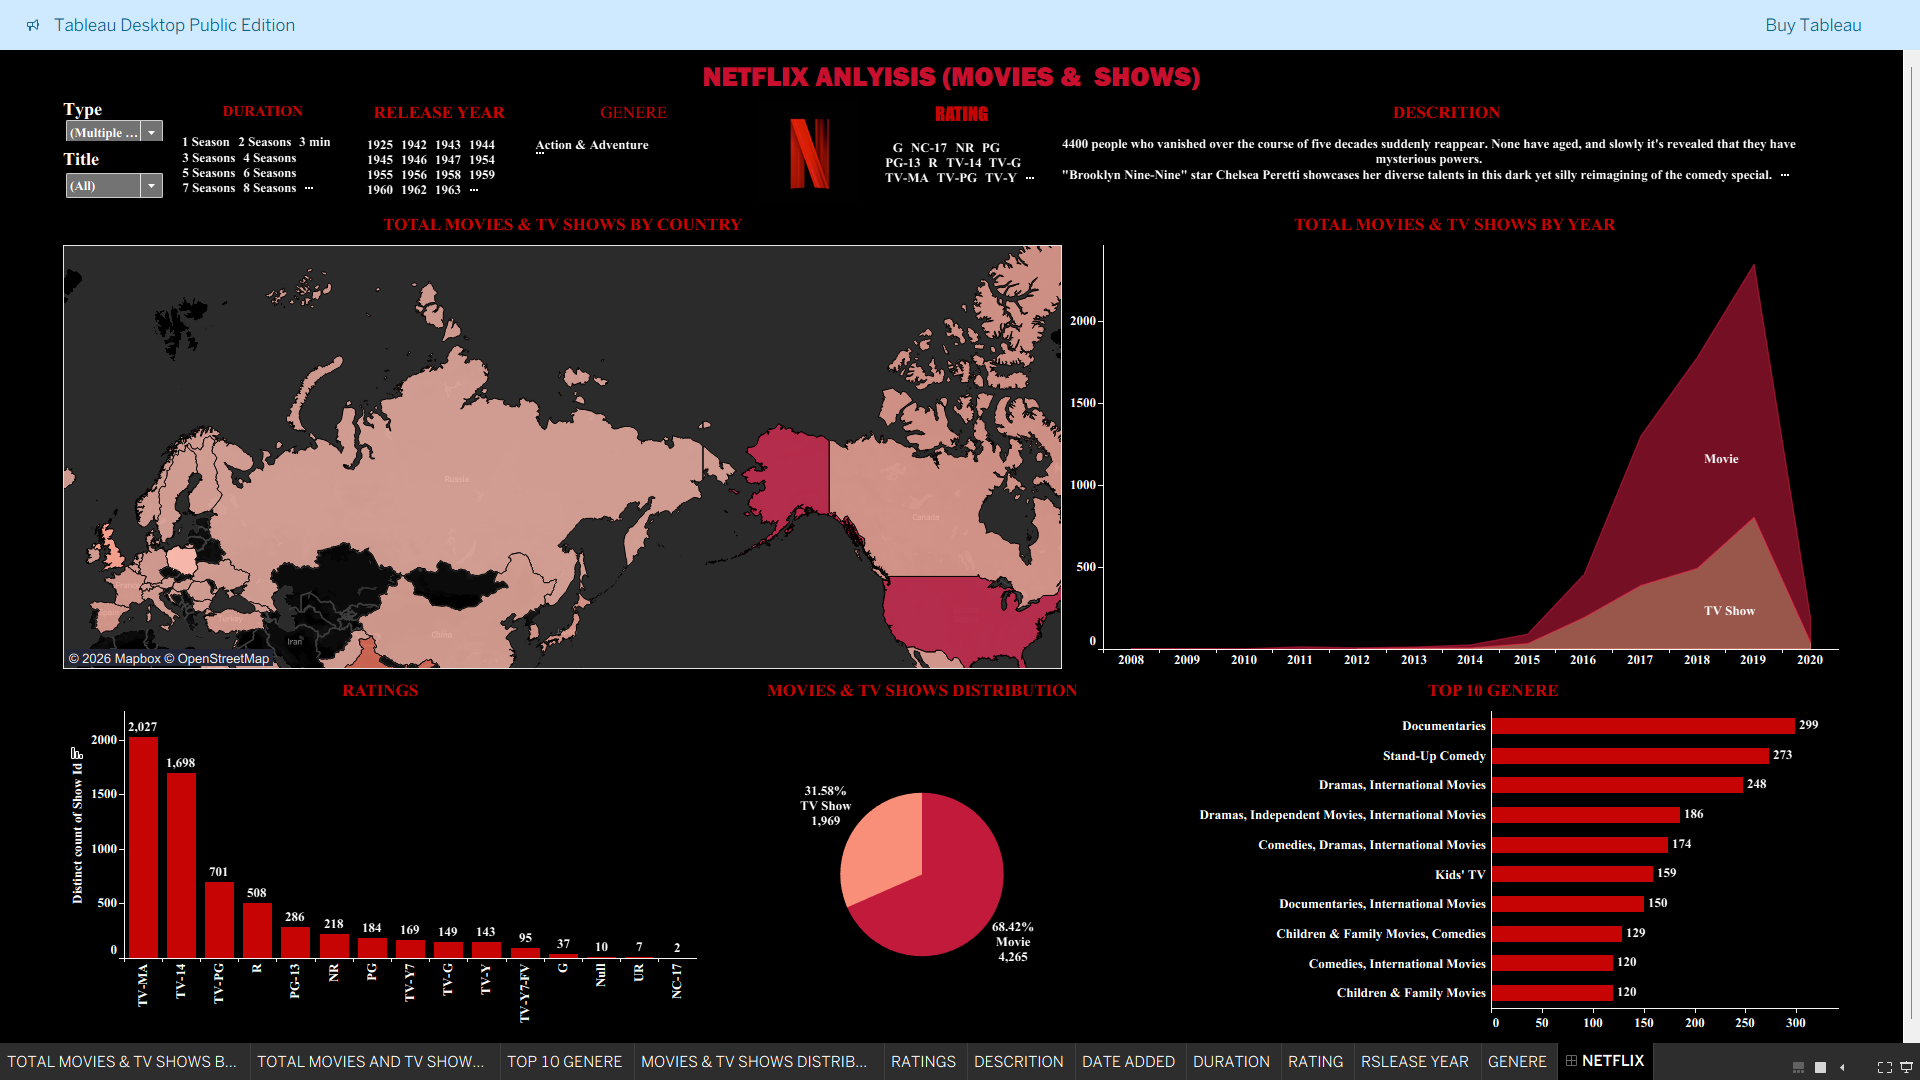

This screenshot's page, from the dashboard's own definition file:
{"tool":"tableau","page":{"name":"NETFLIX","canvas":[1800,1000],"ordinal":0},"visuals":[{"type":"text","box":[8,8,1784,37]},{"type":"filter","title":"RATING","param":"[federated.0agbwsg0adf0lw18ltaft0n8m260].[none:type:nk]","box":[8,45,111.5,50]},{"type":"worksheet","title":"DURATION","mark":"Automatic","box":[119.5,45,184.5,111.6]},{"type":"worksheet","title":"RSLEASE YEAR","mark":"Automatic","box":[304,45,168,111.6]},{"type":"worksheet","title":"GENERE","mark":"Automatic","box":[472,45,221,111.6]},{"type":"image","param":"Image/BDvqkcvVLHBu6xZ5yaN7jQ.jpg","box":[693,45,129,111.6]},{"type":"worksheet","title":"RATING","mark":"Automatic","box":[822,45,177,111.6]},{"type":"worksheet","title":"DESCRITION","mark":"Automatic","box":[999,45,793,111.6]},{"type":"filter","title":"RATING","param":"[federated.0agbwsg0adf0lw18ltaft0n8m260].[none:title:nk]","box":[8,95,111.5,61.6]},{"type":"worksheet","title":"TOTAL MOVIES AND TV SHOWS BY COUNTRY","mark":"Multipolygon","box":[8,156.6,1007,465.9]},{"type":"worksheet","title":"TOTAL MOVIES & TV SHOWS BY YEARS","mark":"Area","rows":["show_id"],"cols":["date_added"],"box":[1015,156.6,777,465.9]},{"type":"worksheet","title":"RATINGS","mark":"Automatic","rows":["show_id"],"cols":["rating"],"box":[8,622.5,642,369.5]},{"type":"worksheet","title":"MOVIES & TV SHOWS DISTRIBUTION","mark":"Pie","box":[650,622.5,442,369.5]},{"type":"worksheet","title":"TOP 10 GENERE","mark":"Automatic","rows":["listed_in"],"cols":["show_id"],"box":[1092,622.5,700,369.5]}]}

Visuals, with their boxes in screenshot pixels (x1, y1, x2, y2):
text: <bbox>23, 8, 1900, 47</bbox>
"RATING" filter: <bbox>23, 47, 141, 100</bbox>
"DURATION" worksheet: <bbox>141, 47, 335, 165</bbox>
"RSLEASE YEAR" worksheet: <bbox>335, 47, 512, 165</bbox>
"GENERE" worksheet: <bbox>512, 47, 744, 165</bbox>
image: <bbox>744, 47, 880, 165</bbox>
"RATING" worksheet: <bbox>880, 47, 1066, 165</bbox>
"DESCRITION" worksheet: <bbox>1066, 47, 1900, 165</bbox>
"RATING" filter: <bbox>23, 100, 141, 165</bbox>
"TOTAL MOVIES AND TV SHOWS BY COUNTRY" worksheet (Multipolygon marks): <bbox>23, 165, 1083, 655</bbox>
"TOTAL MOVIES & TV SHOWS BY YEARS" worksheet (Area marks): <bbox>1083, 165, 1900, 655</bbox>
"RATINGS" worksheet: <bbox>23, 655, 699, 1044</bbox>
"MOVIES & TV SHOWS DISTRIBUTION" worksheet (Pie marks): <bbox>699, 655, 1164, 1044</bbox>
"TOP 10 GENERE" worksheet: <bbox>1164, 655, 1900, 1044</bbox>
